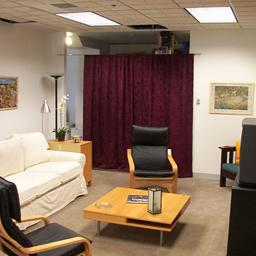Otro Obstaculo: (86, 57, 192, 172)
